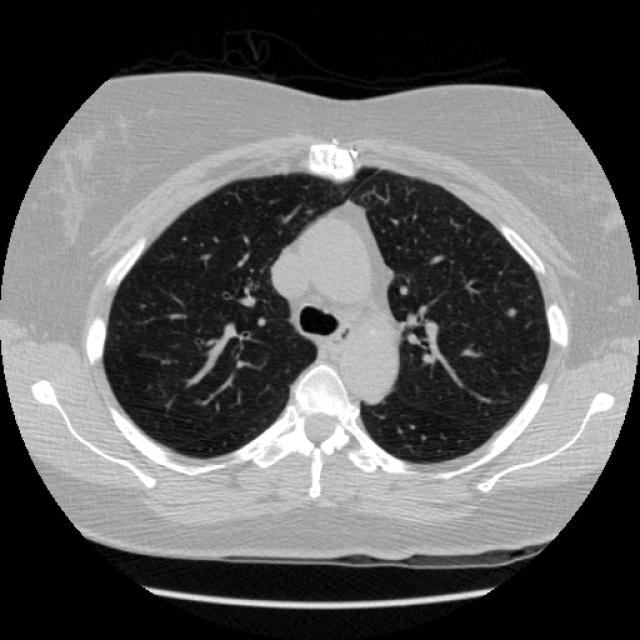nodule: (500, 301, 520, 321)
